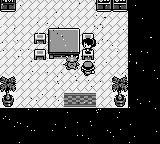main: (81, 61, 96, 76)
no-caminable: (1, 0, 160, 143), (48, 29, 80, 59), (112, 76, 128, 108), (1, 76, 16, 108), (96, 0, 127, 11), (1, 0, 16, 11)
npc: (82, 38, 96, 54), (65, 57, 79, 70)
puerta: (60, 92, 100, 108)
